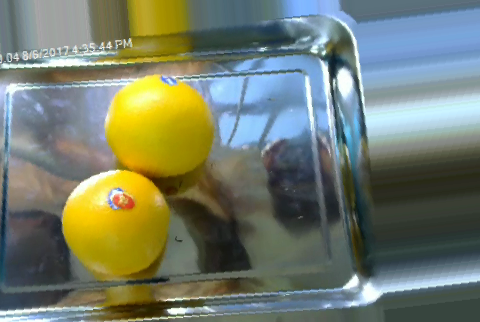Orange: (60, 170, 168, 276), (103, 74, 214, 177)
